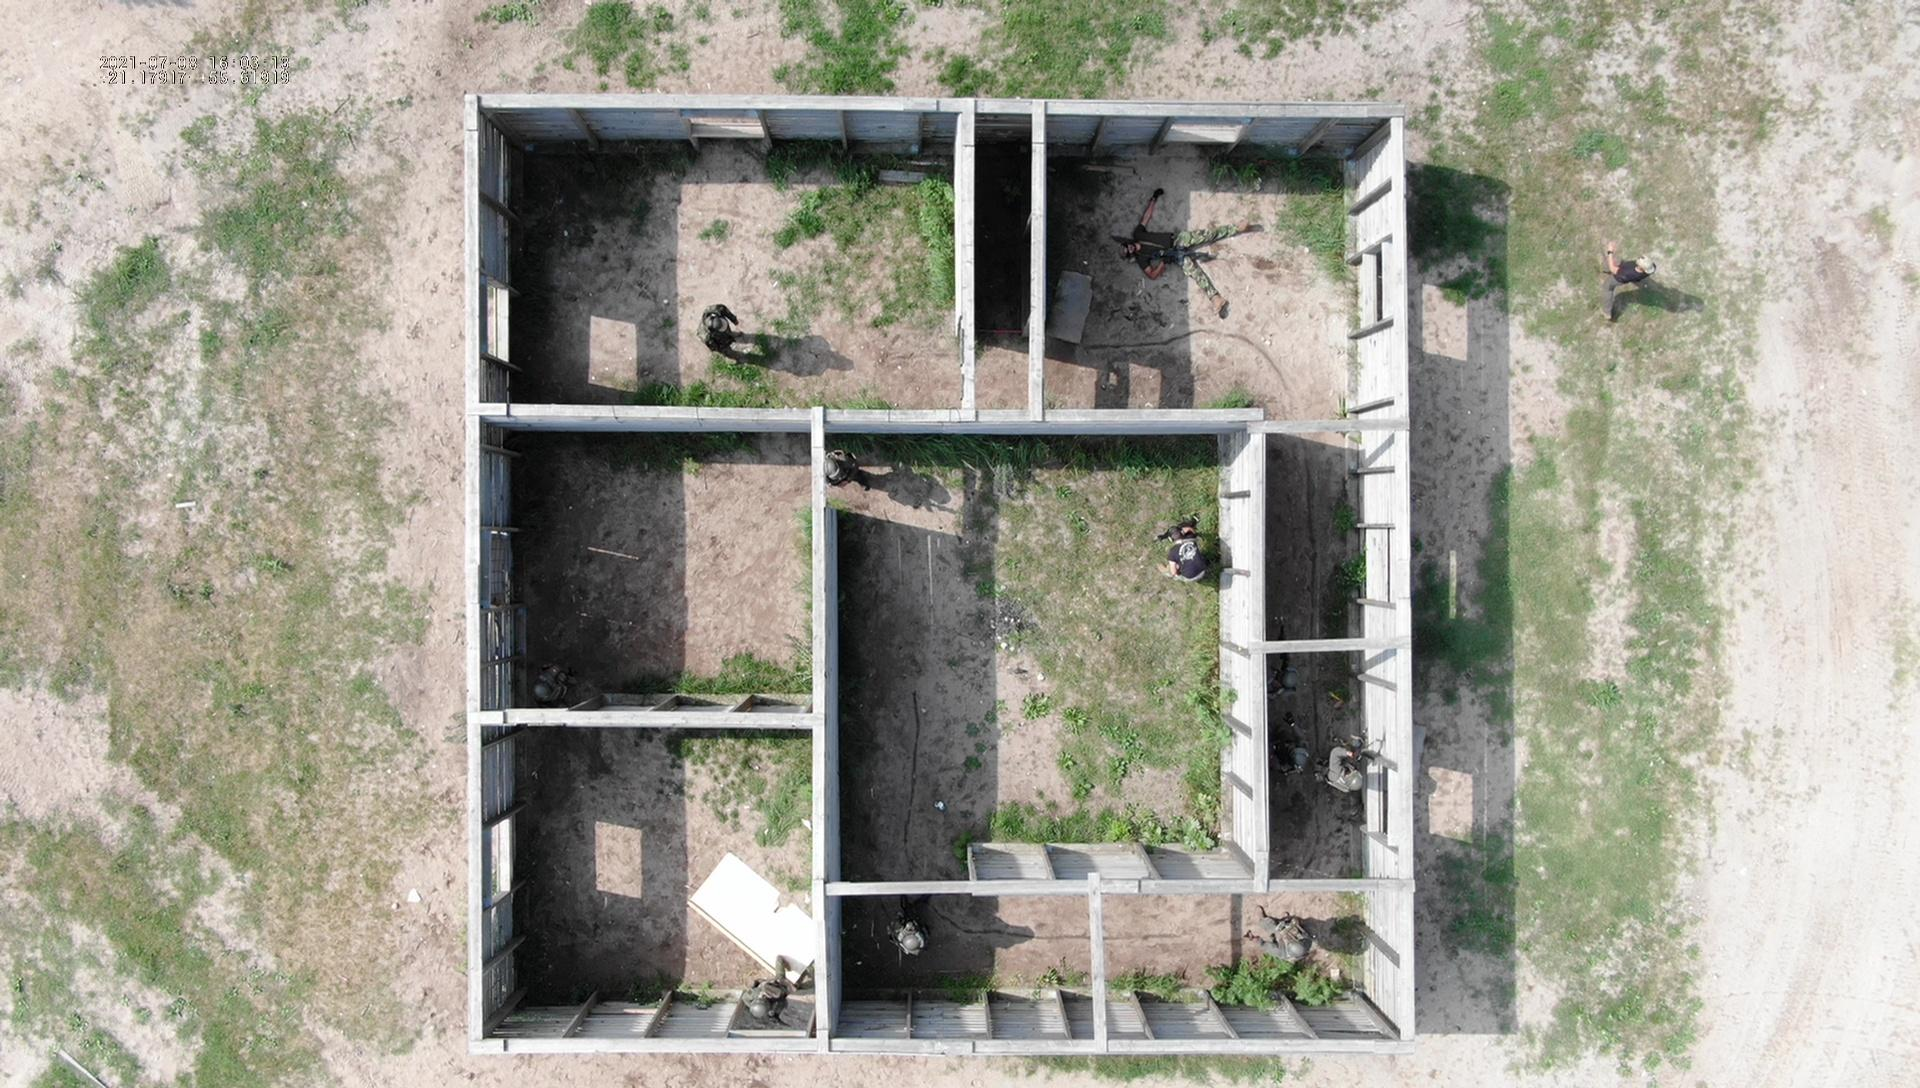Soldier: (1124, 174, 1271, 324), (679, 280, 757, 363), (1250, 921, 1325, 1000), (1167, 516, 1228, 597), (748, 960, 804, 1033), (878, 909, 942, 965), (1324, 733, 1369, 803), (1263, 644, 1304, 715), (1266, 724, 1313, 775), (822, 446, 868, 491)
